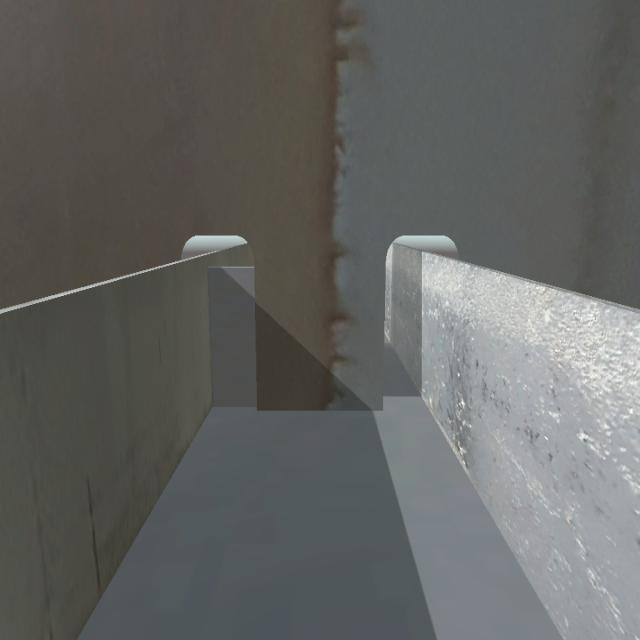fillet_yong_jeop_jang: (198, 394, 386, 422)
longi_yong_jeop_jang: (202, 263, 215, 403)
plate_behind: (208, 268, 257, 404)
